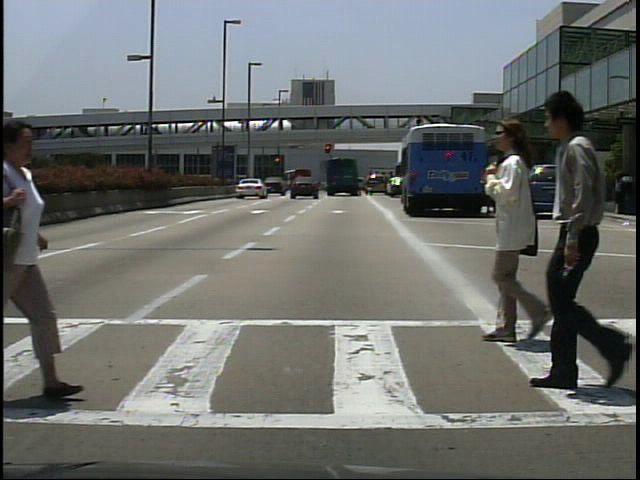person: (524, 77, 640, 395), (460, 117, 564, 349), (582, 168, 602, 218), (506, 166, 523, 216), (487, 162, 499, 215)
